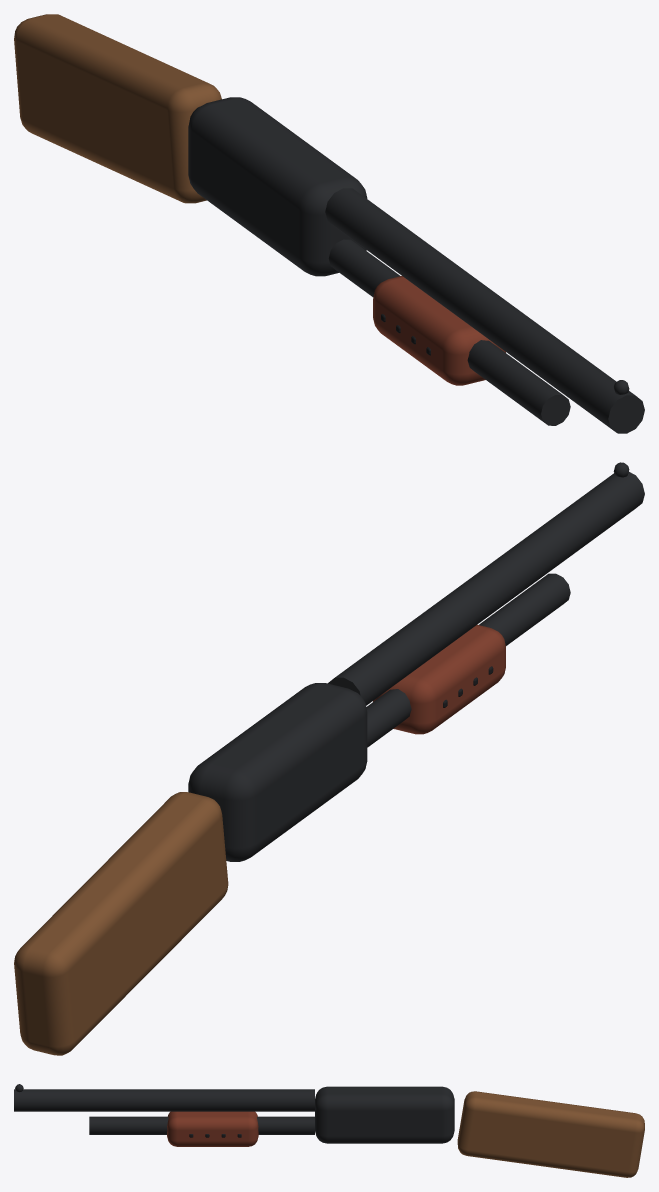
Rendered from boar.glb.
3 renders of one model, top to bottom at view 1: azimuth 30°, elevation 25°; view 2: azimuth 150°, elevation 25°; view 3: azimuth 270°, elevation 25°, orthographic. The views are drawn at different scales.
Visible parts, largest first — view 1: Boar; view 2: Boar; view 3: Boar.
Boxes of the visible parts, x1,y1,x2,y2 form: Boar: [14, 14, 644, 433]; Boar: [14, 462, 644, 1055]; Boar: [14, 1084, 644, 1177].
Size of the model in its own units: 0.075 by 0.1849 by 1.17.
